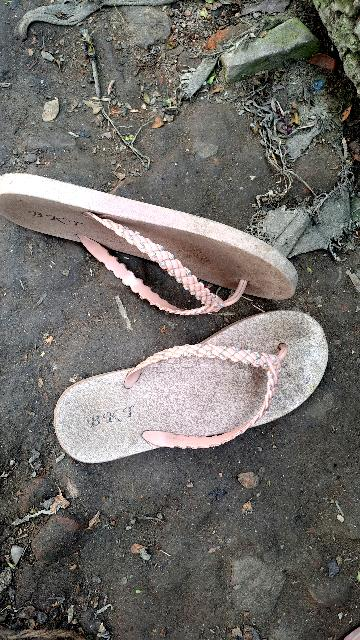sandal: (32, 300, 336, 480), (0, 168, 297, 306)
